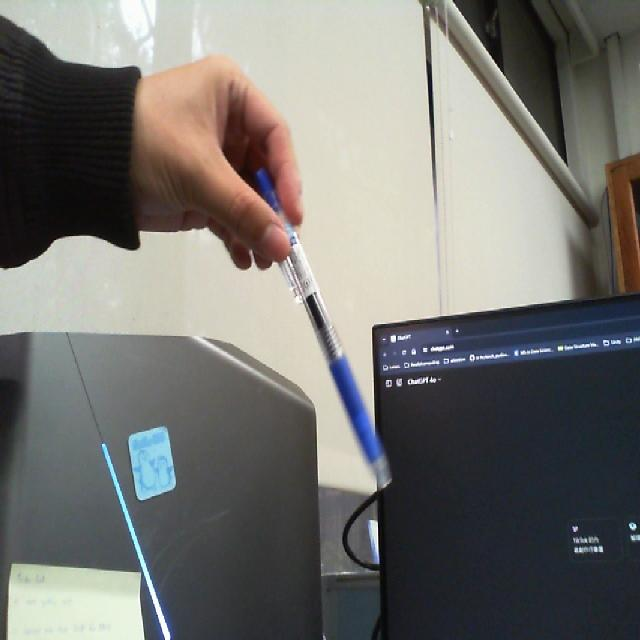Pen: (245, 162, 406, 492)
